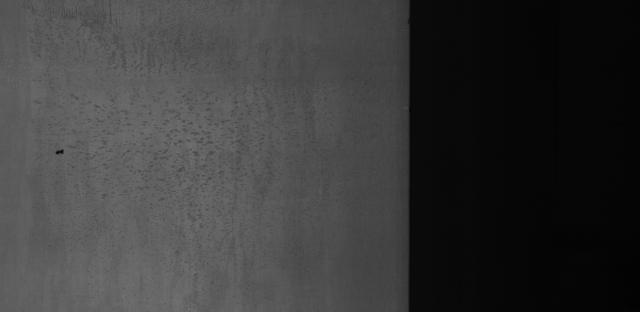inclusion: (51, 134, 76, 162)
silk_spot: (85, 36, 309, 253)
